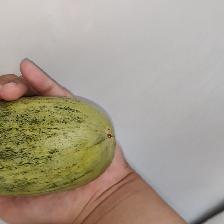gua: (11, 101, 106, 188)
